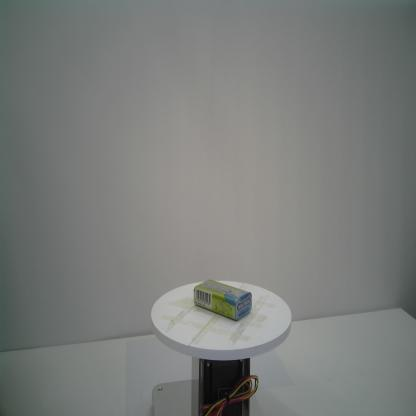Gum: (193, 278, 253, 323)
